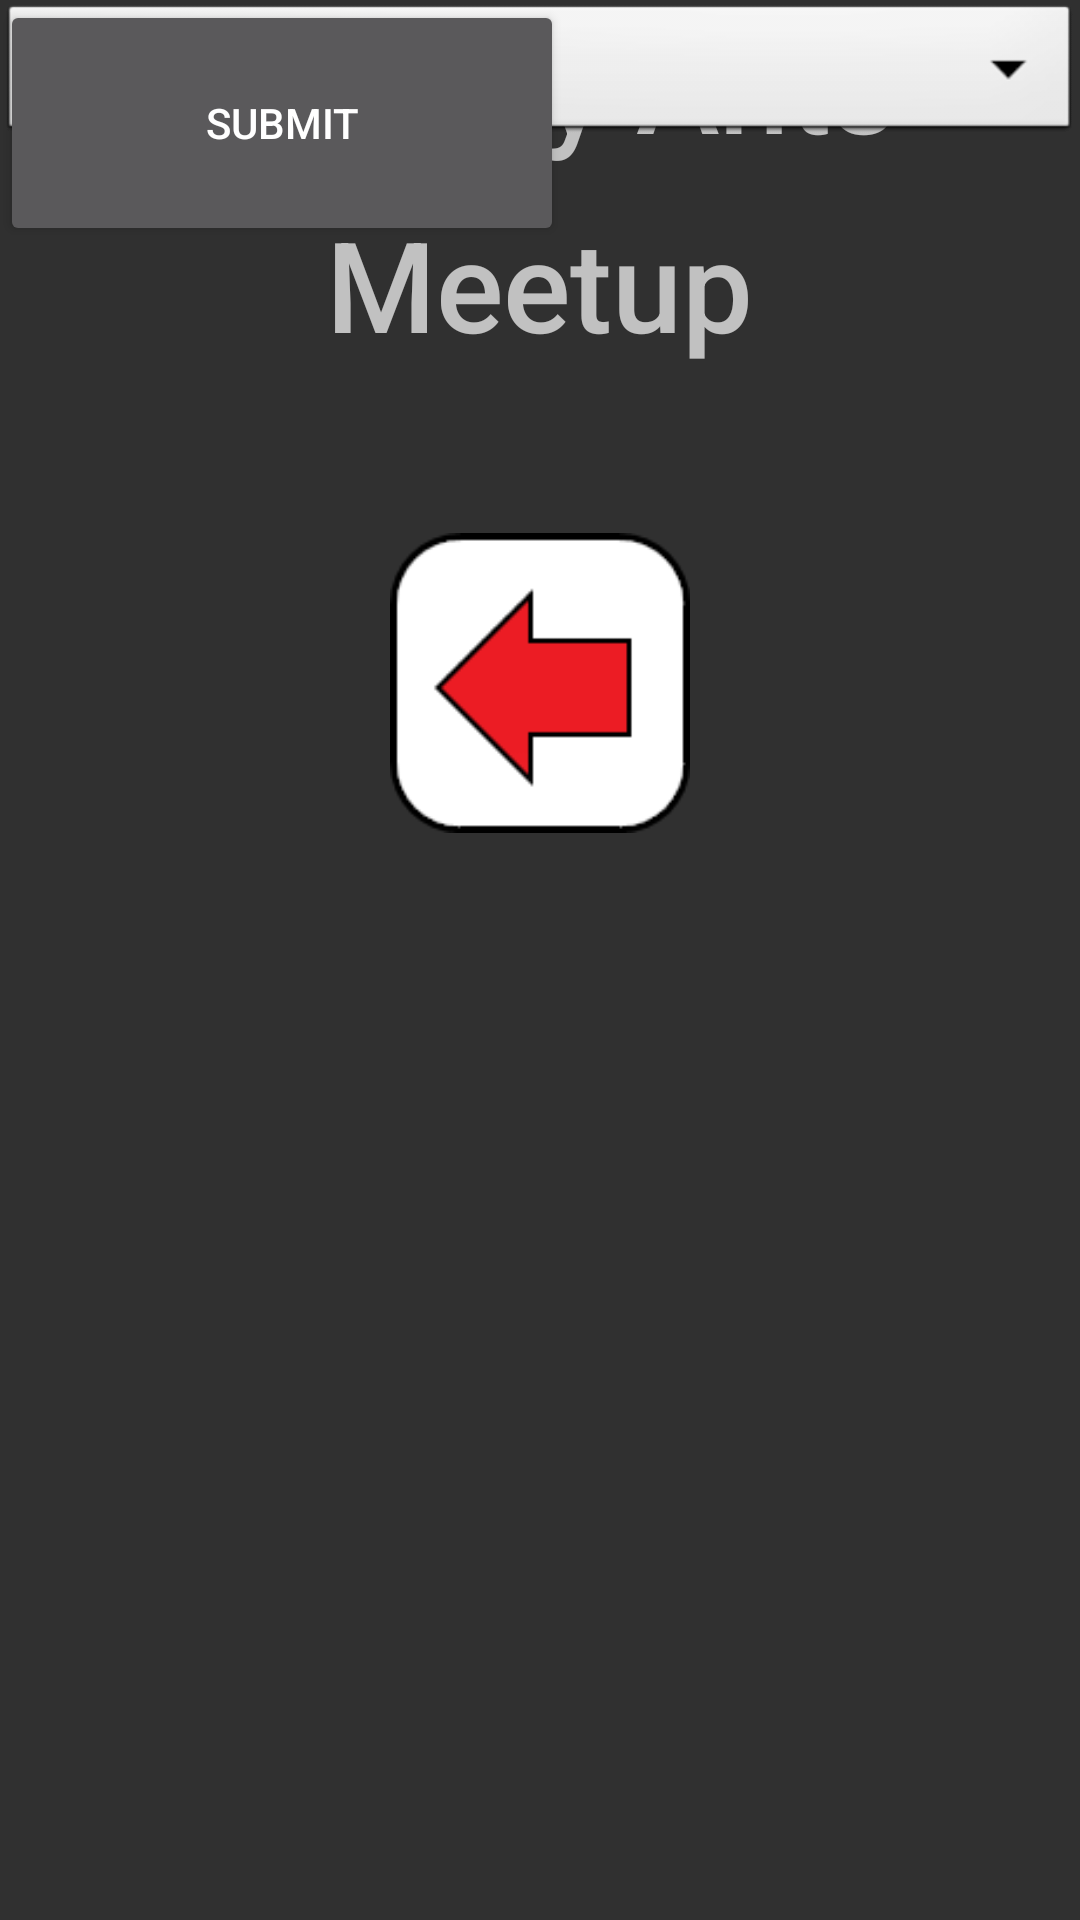

Screen size 1080 × 1920. Icon name, then its center in pixels as (x=x, y=y):
left arrow: (x=540, y=683)
